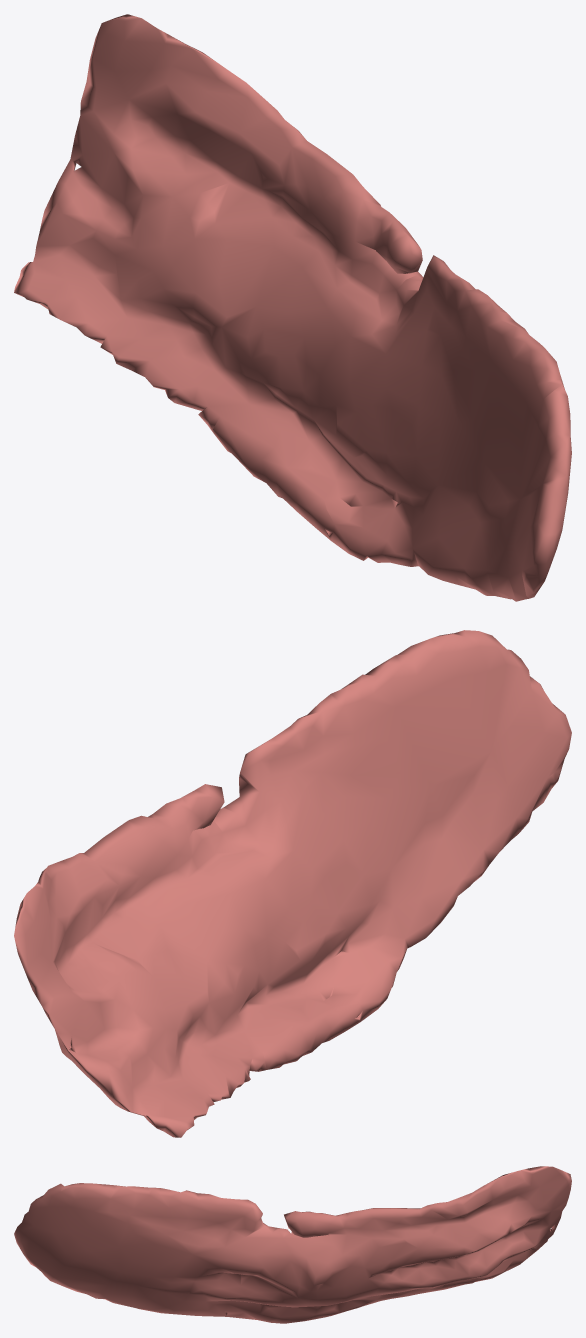
The model's file is fma48962_mm1290.glb.
The picture shows the model from 3 angles, top to bottom: view 1: azimuth 30°, elevation 25°; view 2: azimuth 150°, elevation 25°; view 3: azimuth 270°, elevation 25°; orthographic projection. The views are drawn at different scales.
Visible parts, largest first — view 1: FMA48962_MM1290; view 2: FMA48962_MM1290; view 3: FMA48962_MM1290.
Part boxes in pixels (x1,y1,x2,y2): FMA48962_MM1290: [14, 14, 571, 601]; FMA48962_MM1290: [14, 630, 571, 1137]; FMA48962_MM1290: [14, 1166, 571, 1323].
Bounding box in the file's own units: 0.00755 × 0.00961 × 0.0288.
